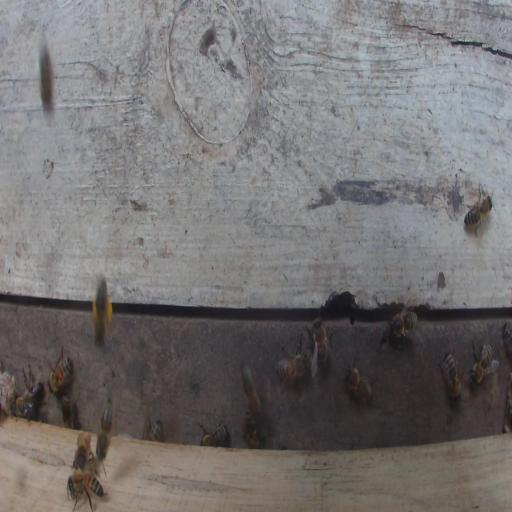nonpollenbee: (240, 362, 264, 426), (67, 470, 104, 510), (39, 37, 55, 124), (95, 397, 113, 461), (465, 192, 493, 230), (470, 344, 495, 386), (346, 367, 373, 404), (47, 356, 73, 393), (444, 354, 462, 402), (388, 312, 417, 340), (278, 354, 308, 380), (75, 433, 91, 473), (314, 318, 327, 367), (201, 424, 226, 448), (9, 396, 35, 419), (243, 412, 259, 448), (61, 389, 73, 430), (24, 382, 45, 405), (144, 418, 162, 442), (503, 326, 512, 357)
pollenbee: (92, 276, 113, 350)
